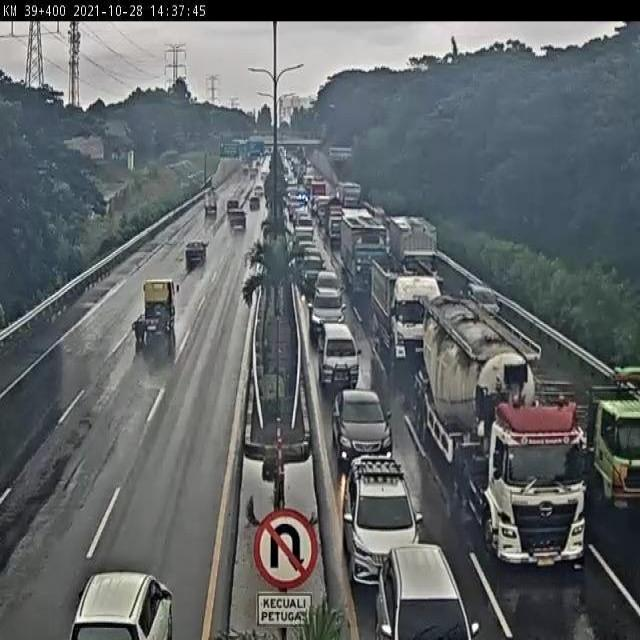big truck: (453, 352, 617, 584), (576, 360, 640, 512), (371, 266, 460, 371), (389, 216, 450, 296), (341, 222, 397, 302)
car: (338, 449, 426, 584), (376, 534, 473, 640), (71, 556, 175, 640), (329, 386, 394, 466), (318, 323, 367, 397), (459, 277, 507, 332), (305, 290, 352, 338), (179, 233, 207, 279), (313, 268, 343, 304), (300, 256, 326, 296), (230, 209, 250, 232)
small truck: (136, 276, 181, 351)
